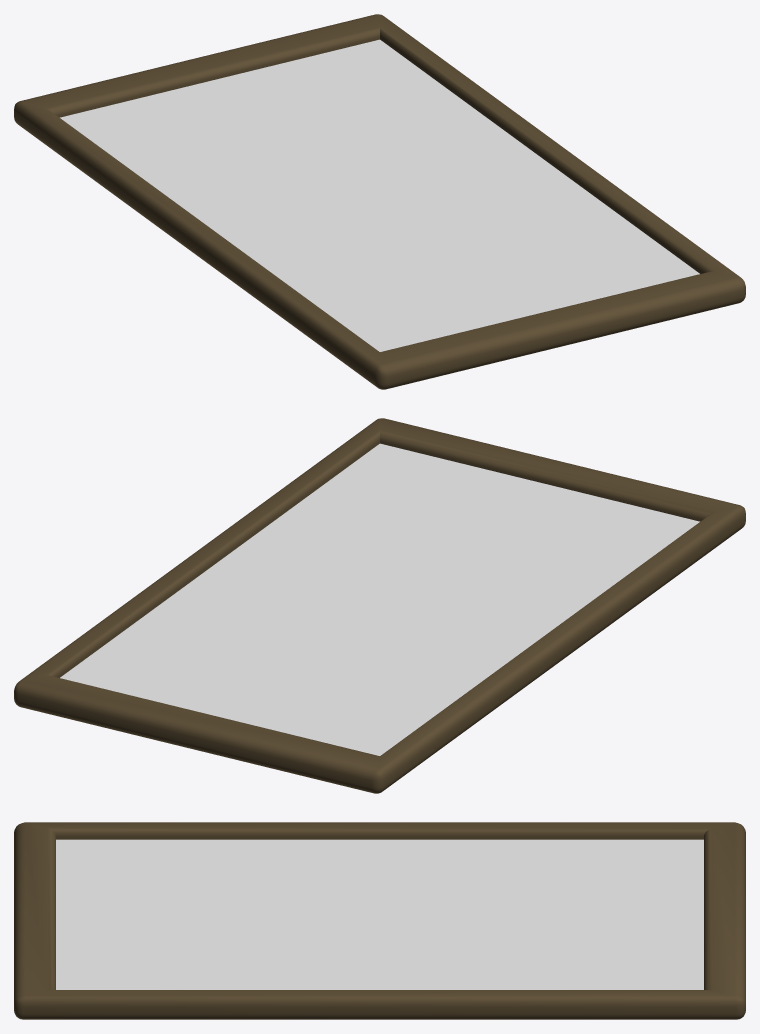
Rendered from MirrorModel_02.fbx.
3 views of the same model, one above another, from view 1: azimuth 30°, elevation 25°; view 2: azimuth 150°, elevation 25°; view 3: azimuth 270°, elevation 25° (orthographic).
Visible parts, largest first — view 1: MirrorModel_02; view 2: MirrorModel_02; view 3: MirrorModel_02.
Part boxes in pixels (x1,y1,x2,y2): MirrorModel_02: (14, 14, 745, 389); MirrorModel_02: (14, 418, 745, 793); MirrorModel_02: (14, 822, 745, 1019).
Size of the model in its own units: 200 by 12.66 by 346.
